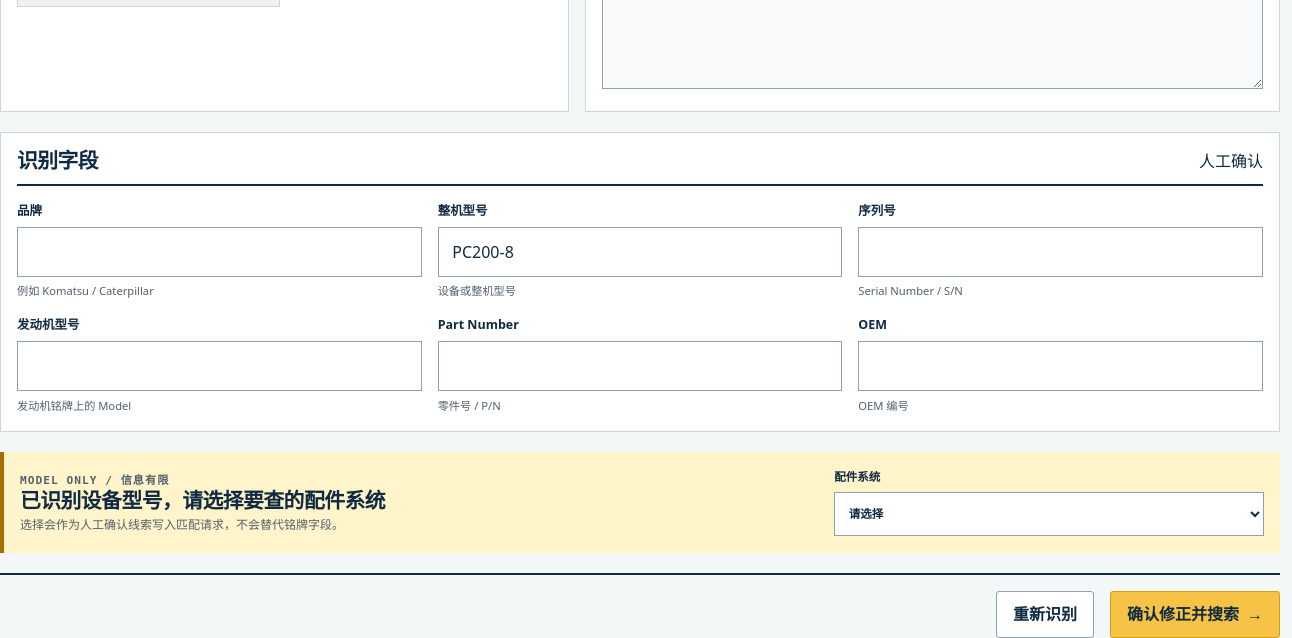
Scenario: UploadResultPage › keeps not-found results on the page and provides a prefilled manual inquiry
(page scrolled)
Step 1. Click the button "确认修正并搜索 →" → (1195, 614), box x1=1110 y1=591 x2=1280 y2=637
(page scrolled)
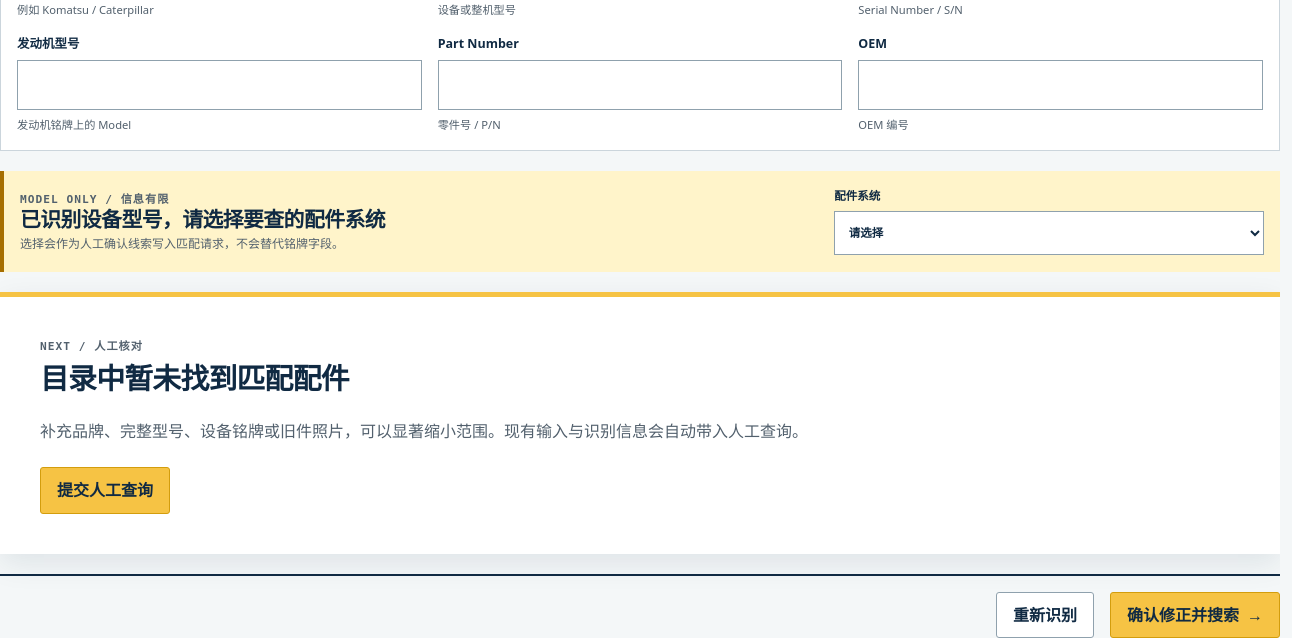
Expected: the heading "目录中暂未找到匹配配件" is shown, x1=40 y1=362 x2=349 y2=396
